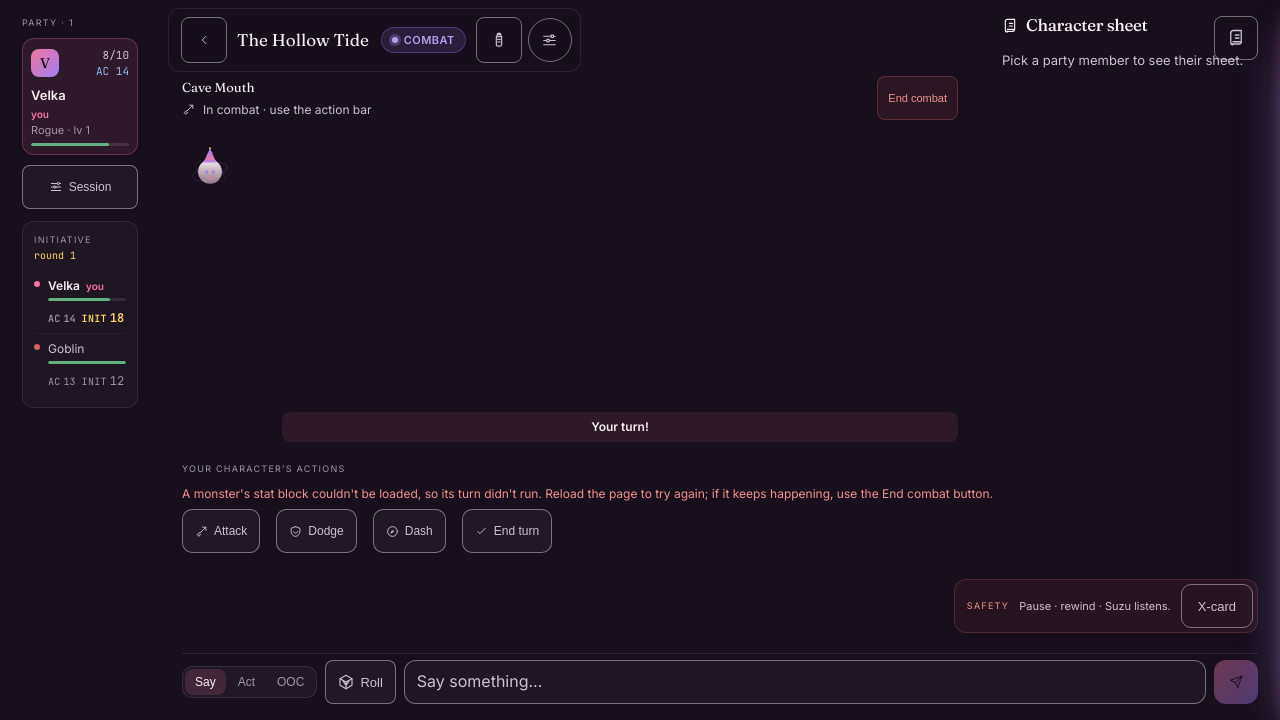
Test: the monster-turn driver's line is its own (Kage S4): a new monster turn never clears a PLAYER's refusal that replaced it › the DM's own Attack is refused, then the next monster turn begins: the player's line stays
Expected: the text "The Hollow Tide" is shown, [237,27,369,53]
Expected: the text "stat block couldn't be loaded, so its turn didn't run" is shown, [182,486,993,501]
Click the button "Attack" at (221, 531), box [182,509,260,553]
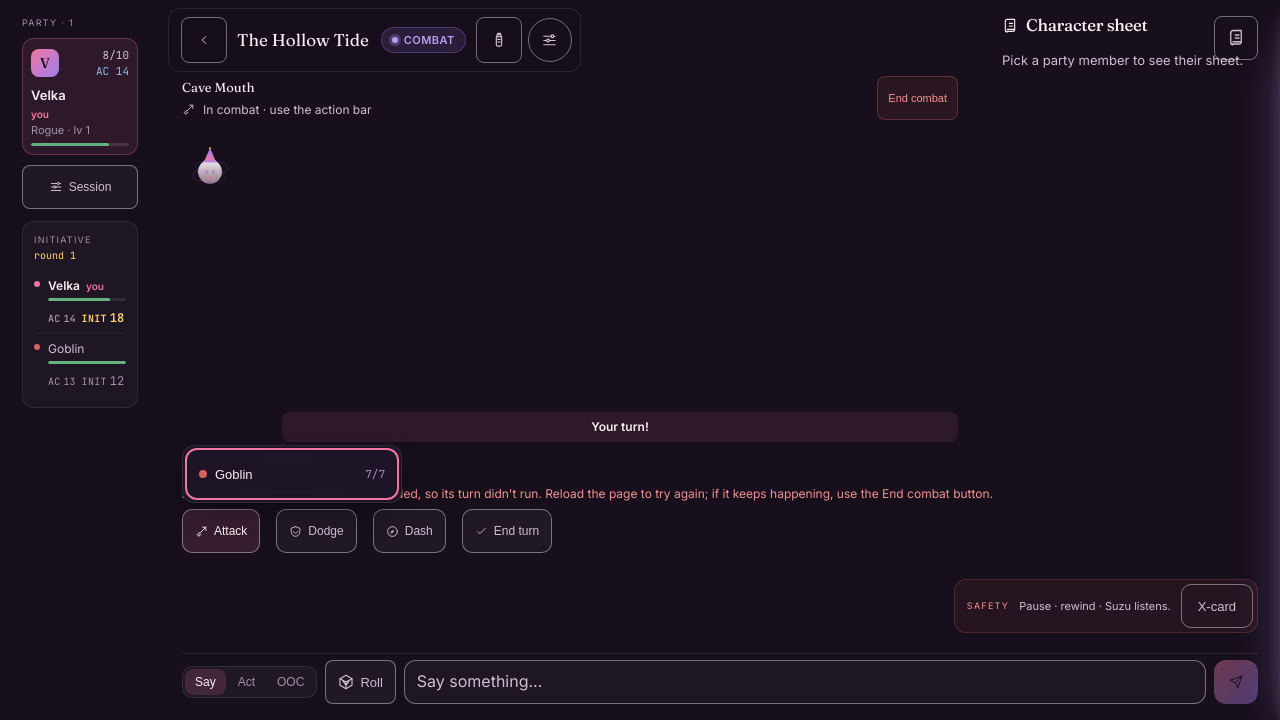
Click the menu item "Goblin 7/7" at (292, 474), box [189,452,395,496]
Wait 4000 ms
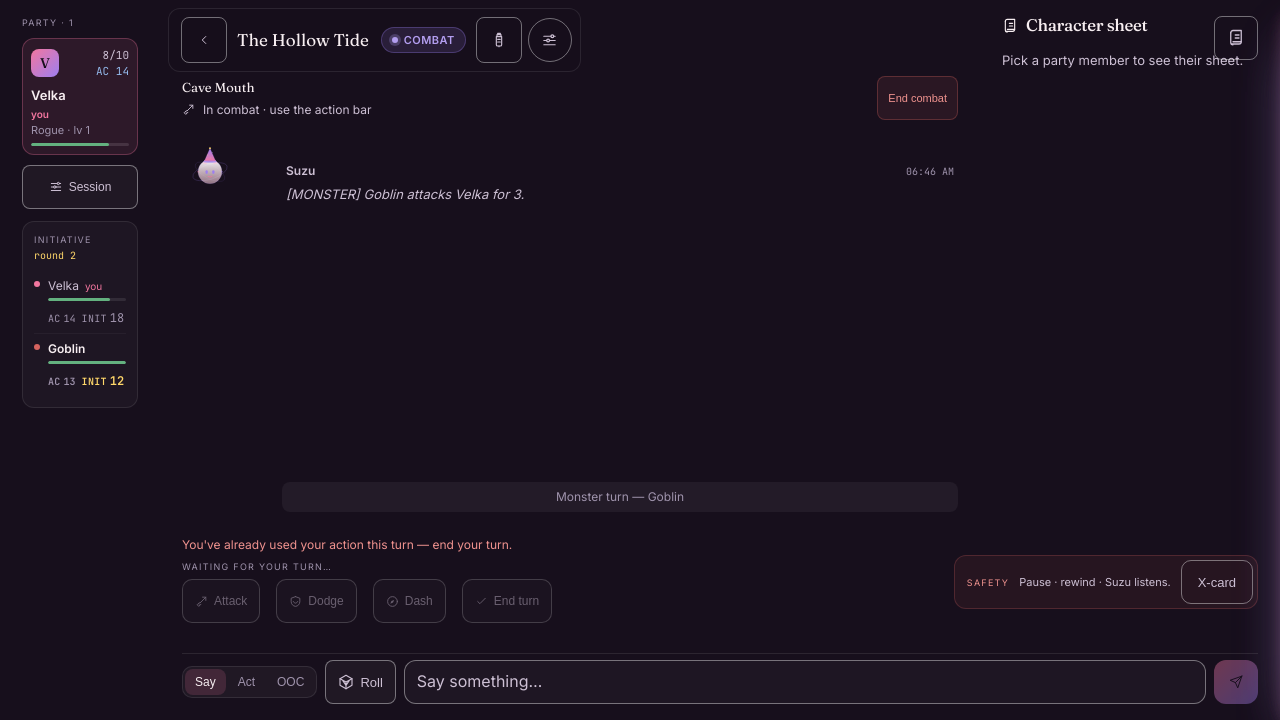
Now the text "stat block couldn't be loaded, so its turn didn't run" is gone
